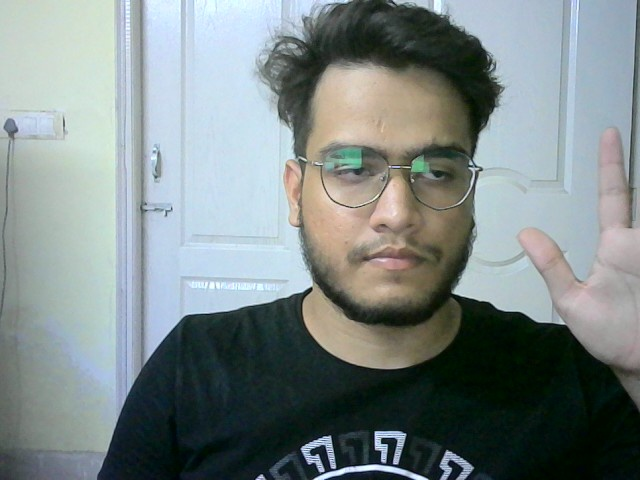Hello: (515, 123, 640, 390)
